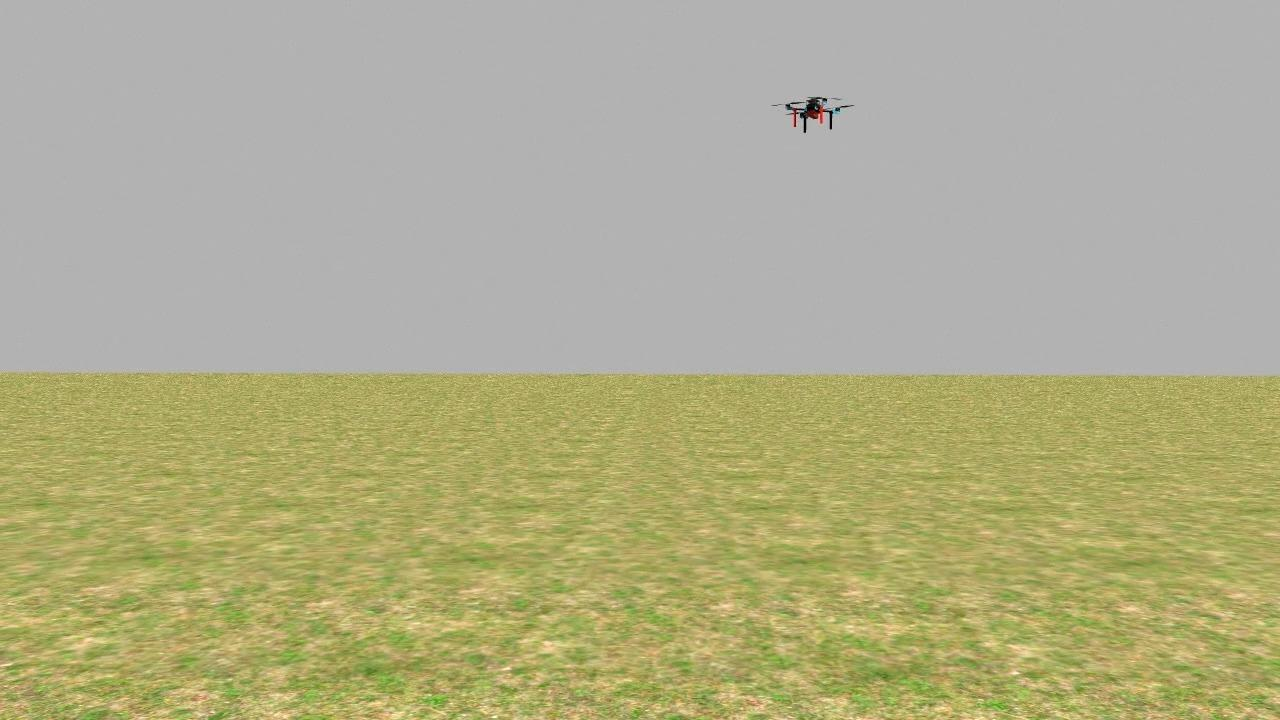UAV: (777, 78, 853, 137)
